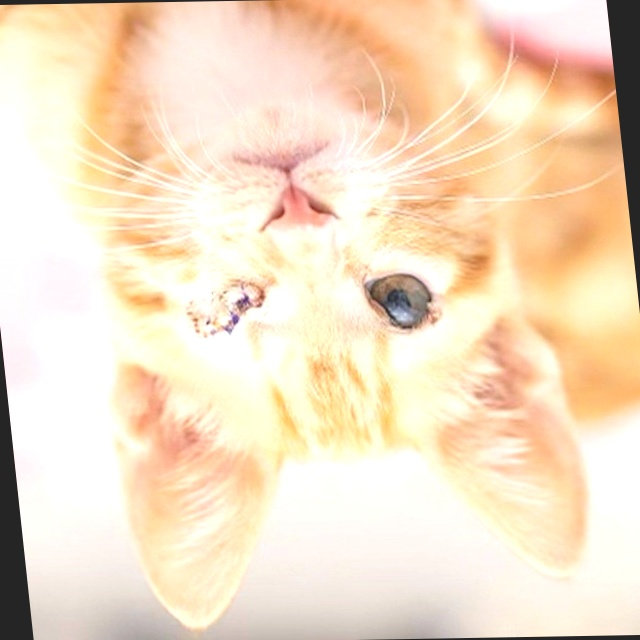eye_infection: (351, 270, 438, 332)
